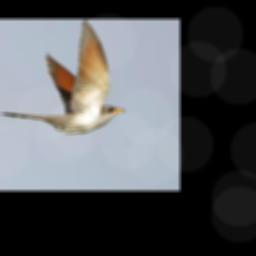Cuckoo: (1, 19, 125, 132)
